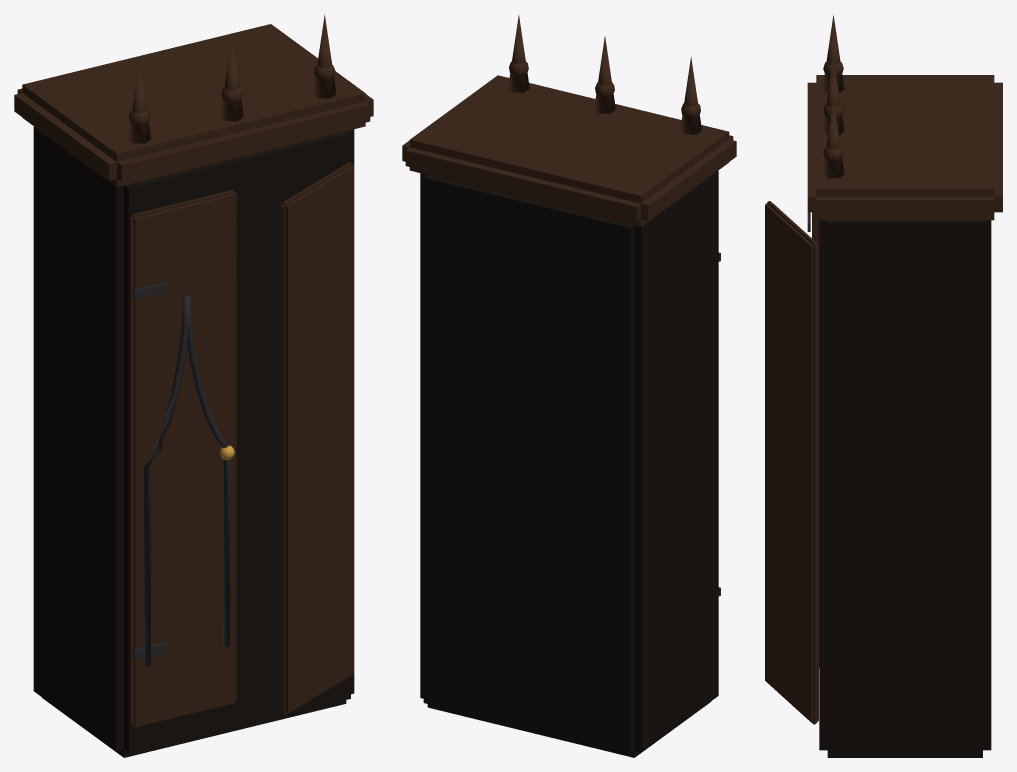
File: gothic-wardrobe.glb
3 views of the same model, side by side, from view 1: azimuth 30°, elevation 25°; view 2: azimuth 150°, elevation 25°; view 3: azimuth 270°, elevation 25° (orthographic). The views are drawn at different scales.
Visible parts, largest first — view 1: Model Mesh; view 2: Model Mesh; view 3: Model Mesh.
Part boxes in pixels (x1,y1,x2,y2): Model Mesh: (14, 14, 373, 757); Model Mesh: (402, 14, 736, 757); Model Mesh: (765, 14, 1002, 757).
Bounding box in the file's own units: 1 × 2.5 × 0.8285.
